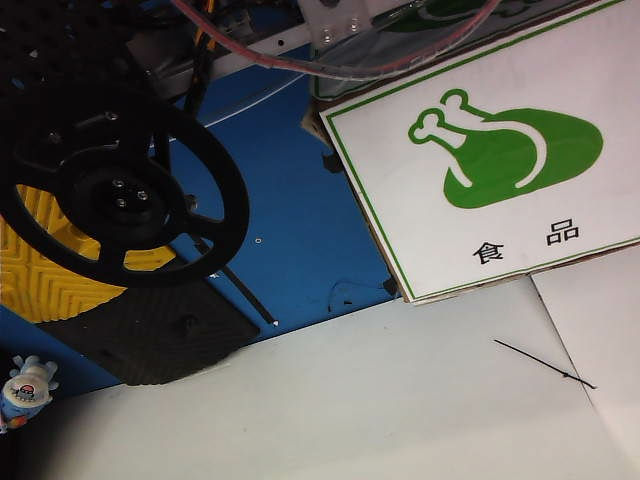Cube_food: (385, 83, 615, 272)
